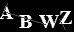A: (1, 4, 14, 20)
B: (18, 13, 33, 29)
W: (37, 14, 60, 29)
Z: (58, 10, 72, 25)
